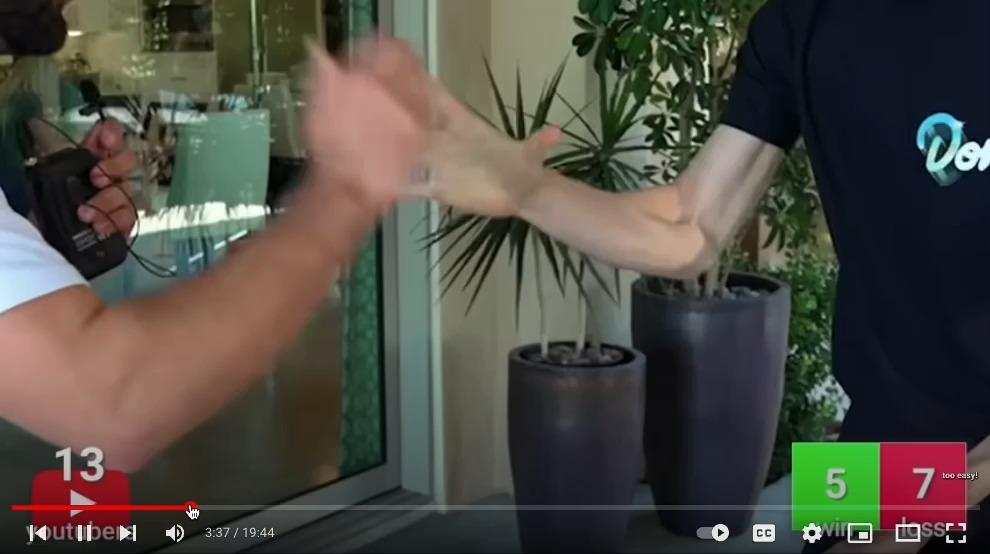Paper: (298, 37, 440, 201), (404, 83, 564, 222)
